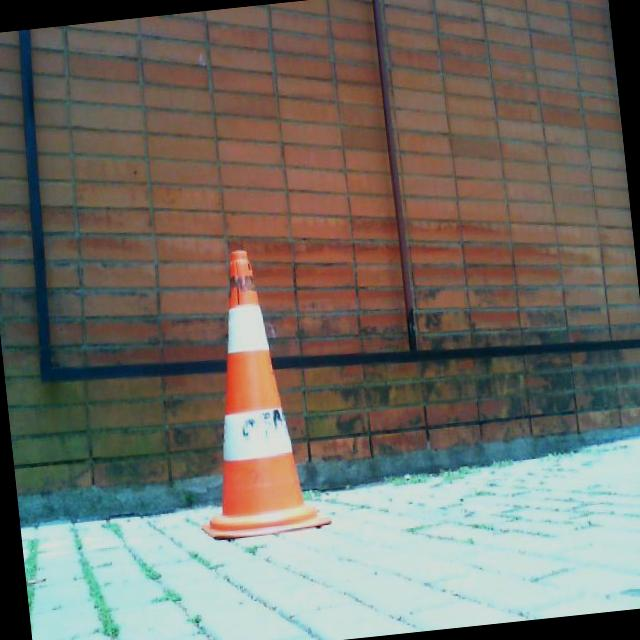Cone: (174, 244, 330, 540)
